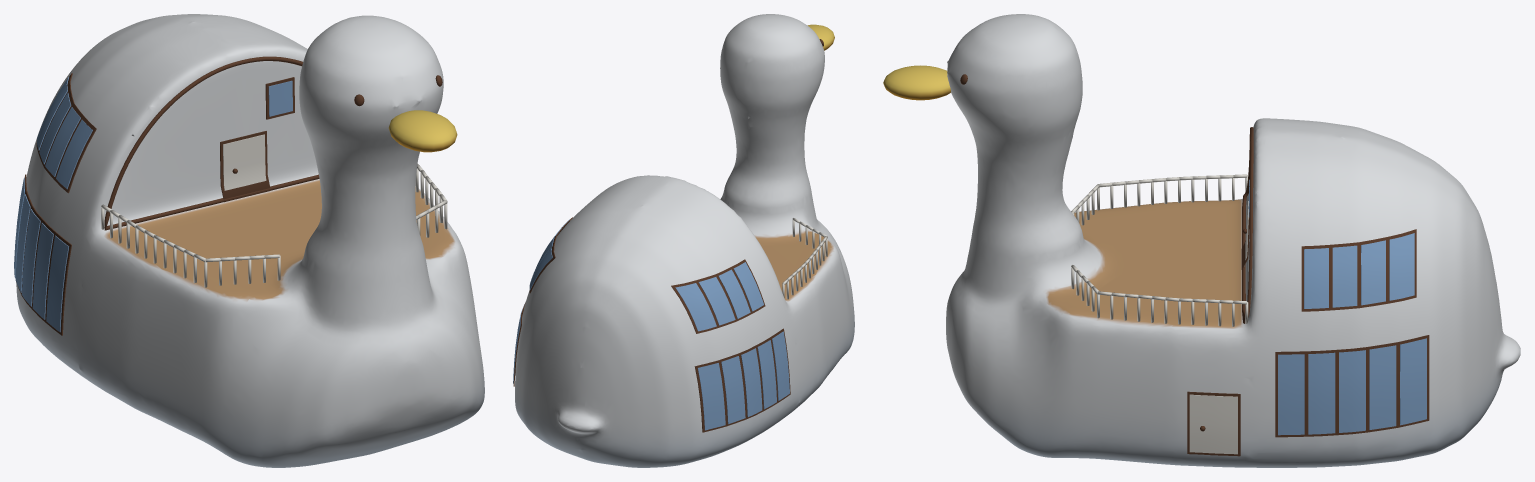
Rendered from ferry.glb.
The picture shows the model from 3 angles, left to right: view 1: azimuth 30°, elevation 25°; view 2: azimuth 150°, elevation 25°; view 3: azimuth 270°, elevation 25°; orthographic projection. The views are drawn at different scales.
Parts seen in each view (by area): view 1: ferry, ferry_glow; view 2: ferry, ferry_glow; view 3: ferry, ferry_glow.
Part boxes in pixels (x1,y1,x2,y2): ferry: (16,14,484,467); ferry_glow: (14,77,292,332); ferry: (513,14,854,467); ferry_glow: (513,219,789,430); ferry: (883,14,1520,467); ferry_glow: (1248,179,1426,435).
Bounding box in the file's own units: 9.68 × 12.1 × 17.4.
